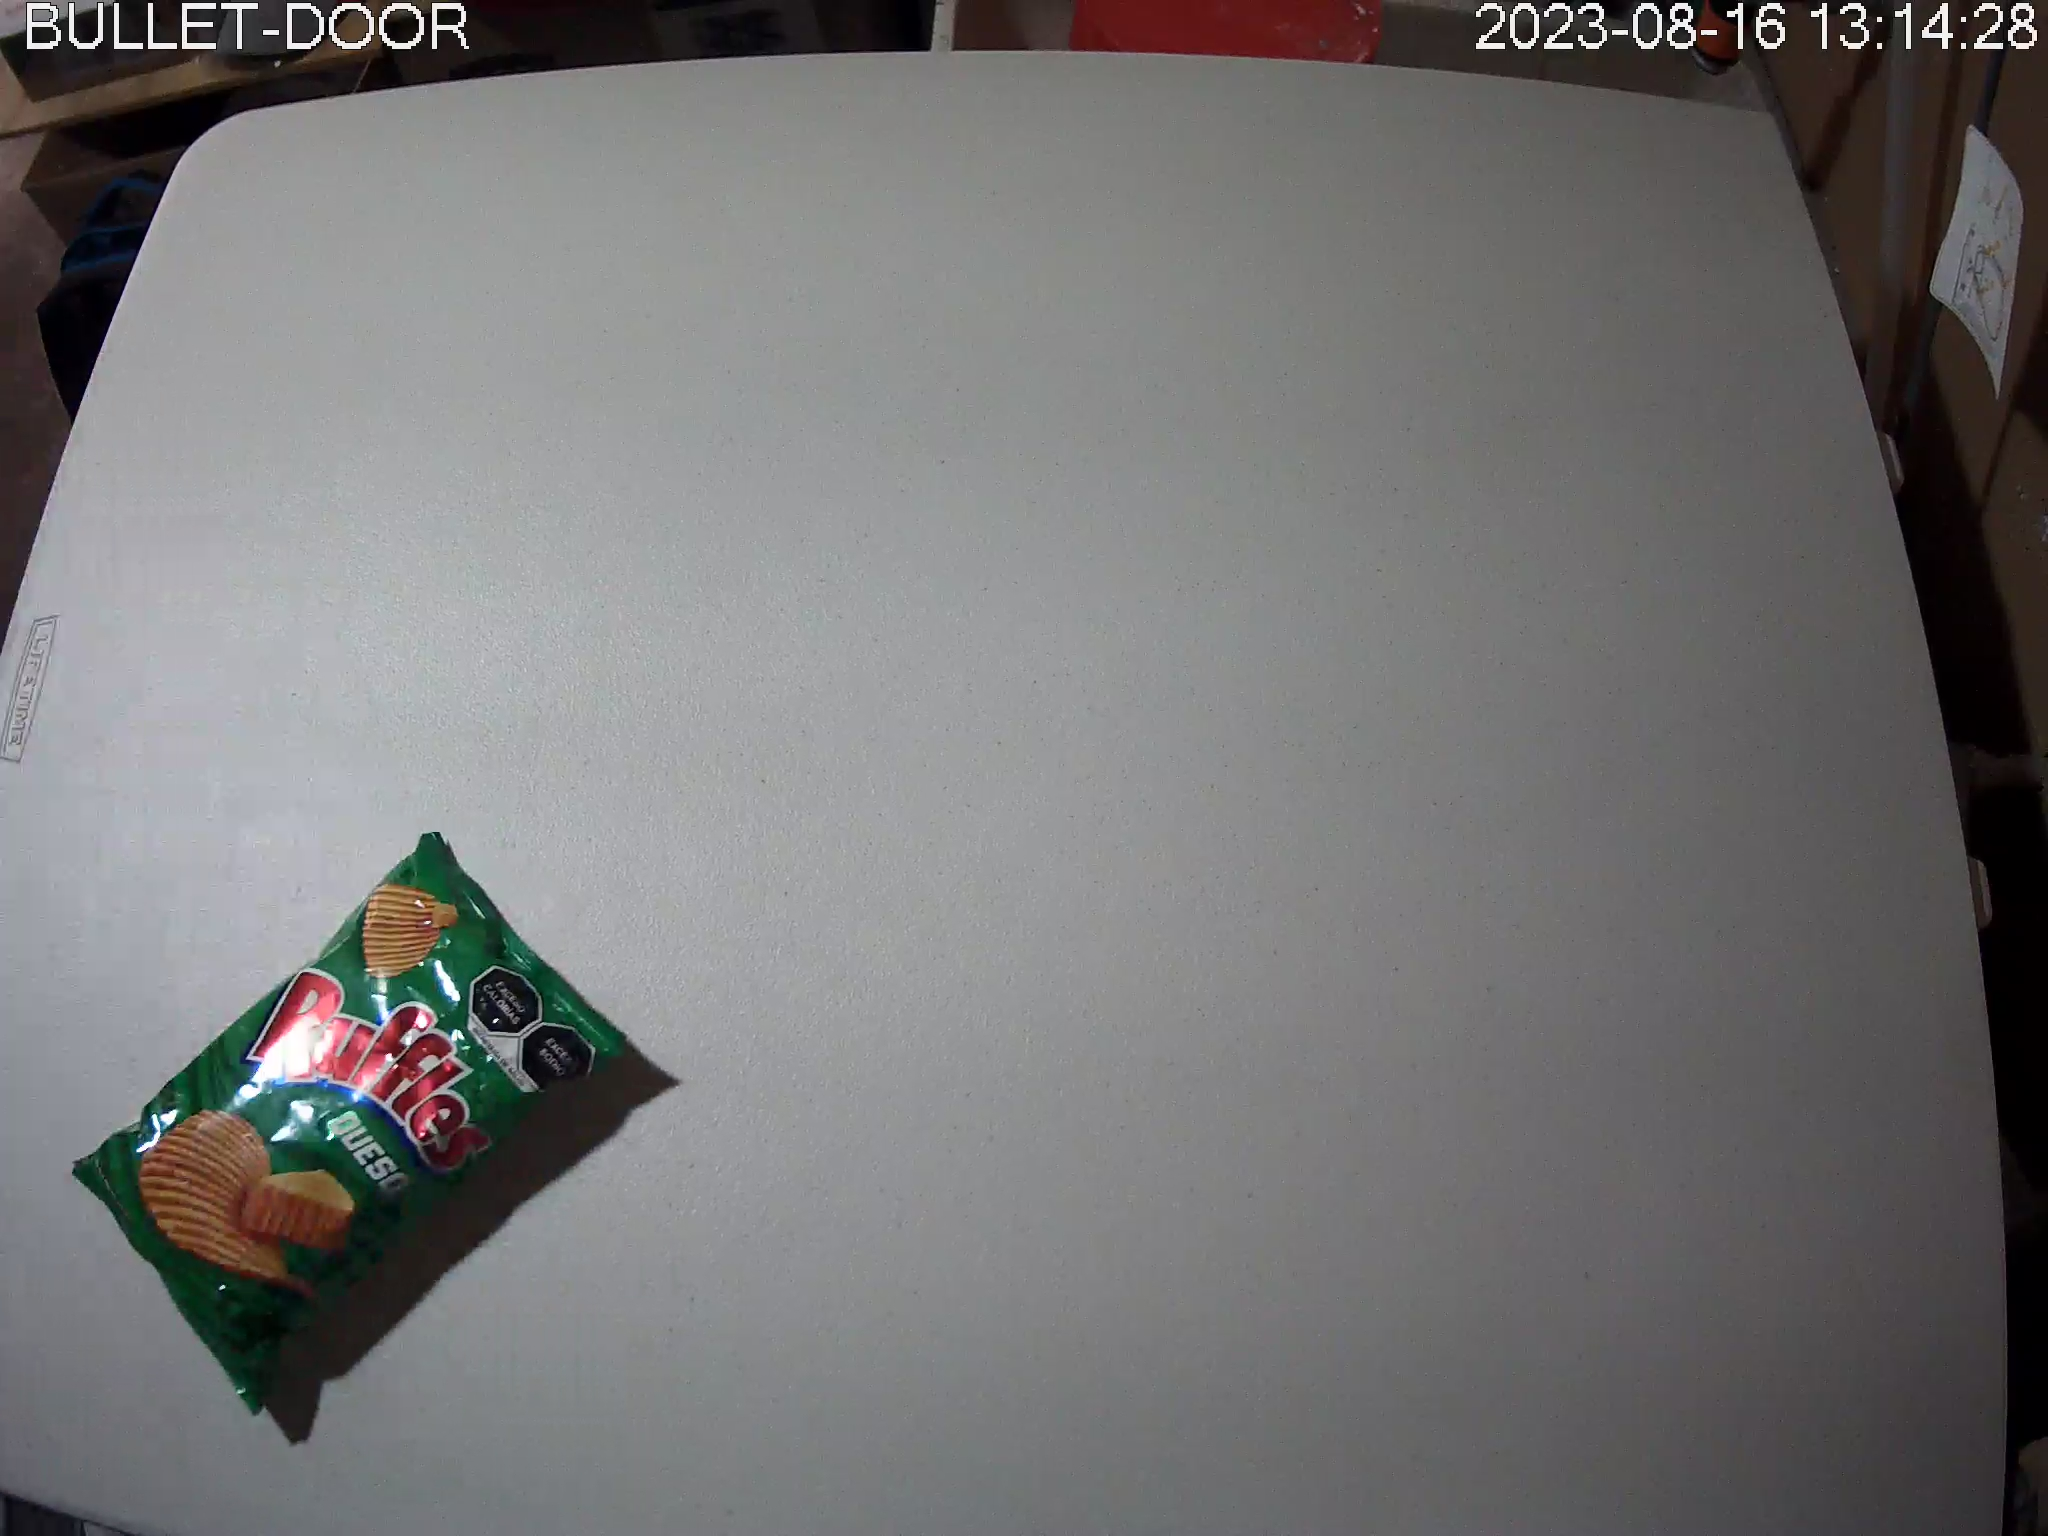RufflesQ_48_F: (69, 829, 632, 1418)
